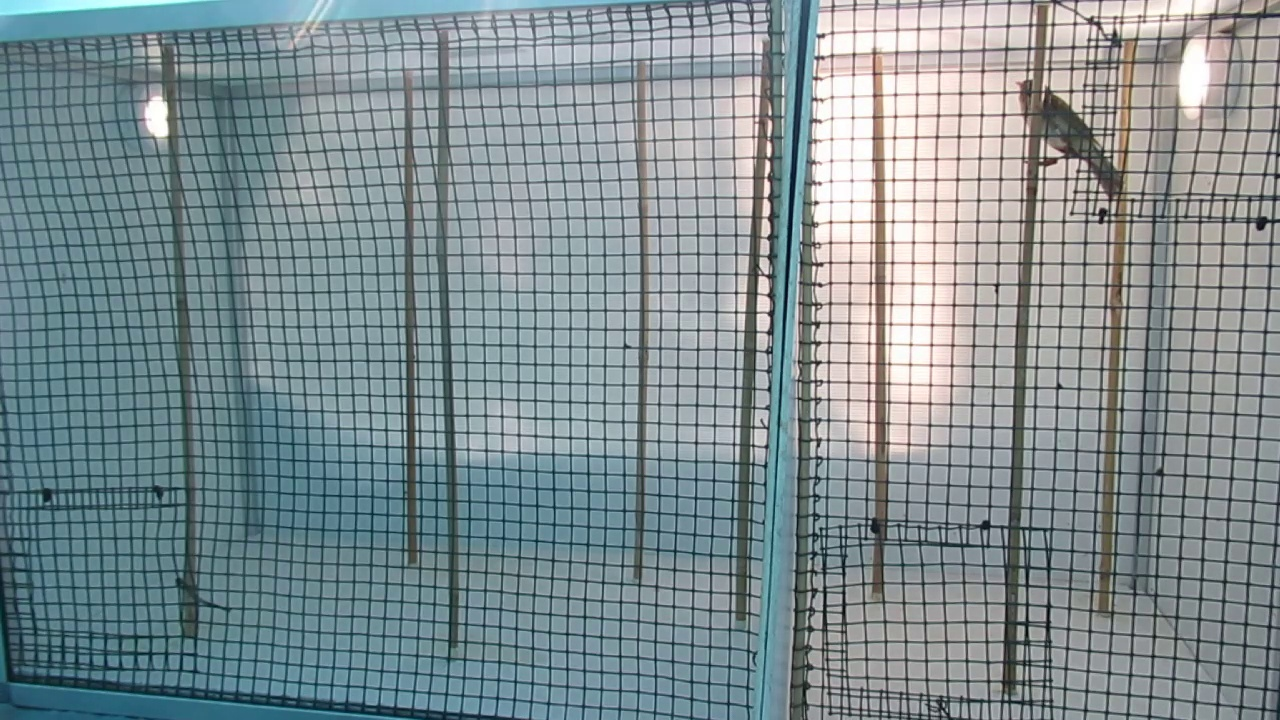bird: (1015, 78, 1111, 204)
stick: (1002, 6, 1048, 684), (733, 46, 777, 617), (1096, 47, 1138, 607), (160, 49, 198, 630), (431, 37, 460, 643), (634, 62, 653, 577), (401, 78, 421, 564), (866, 59, 883, 588)
